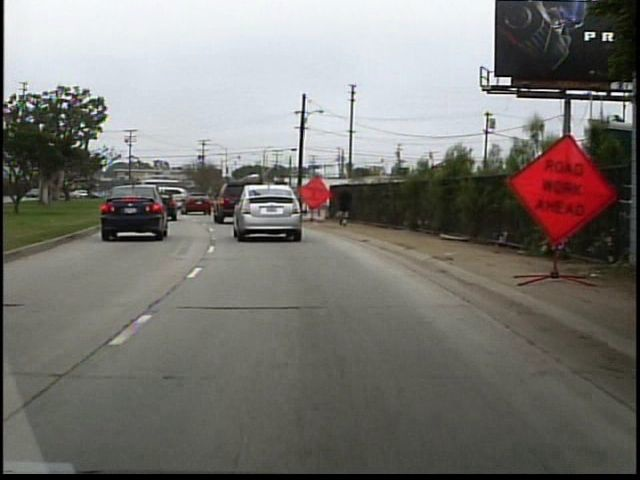person: (331, 180, 355, 229)
